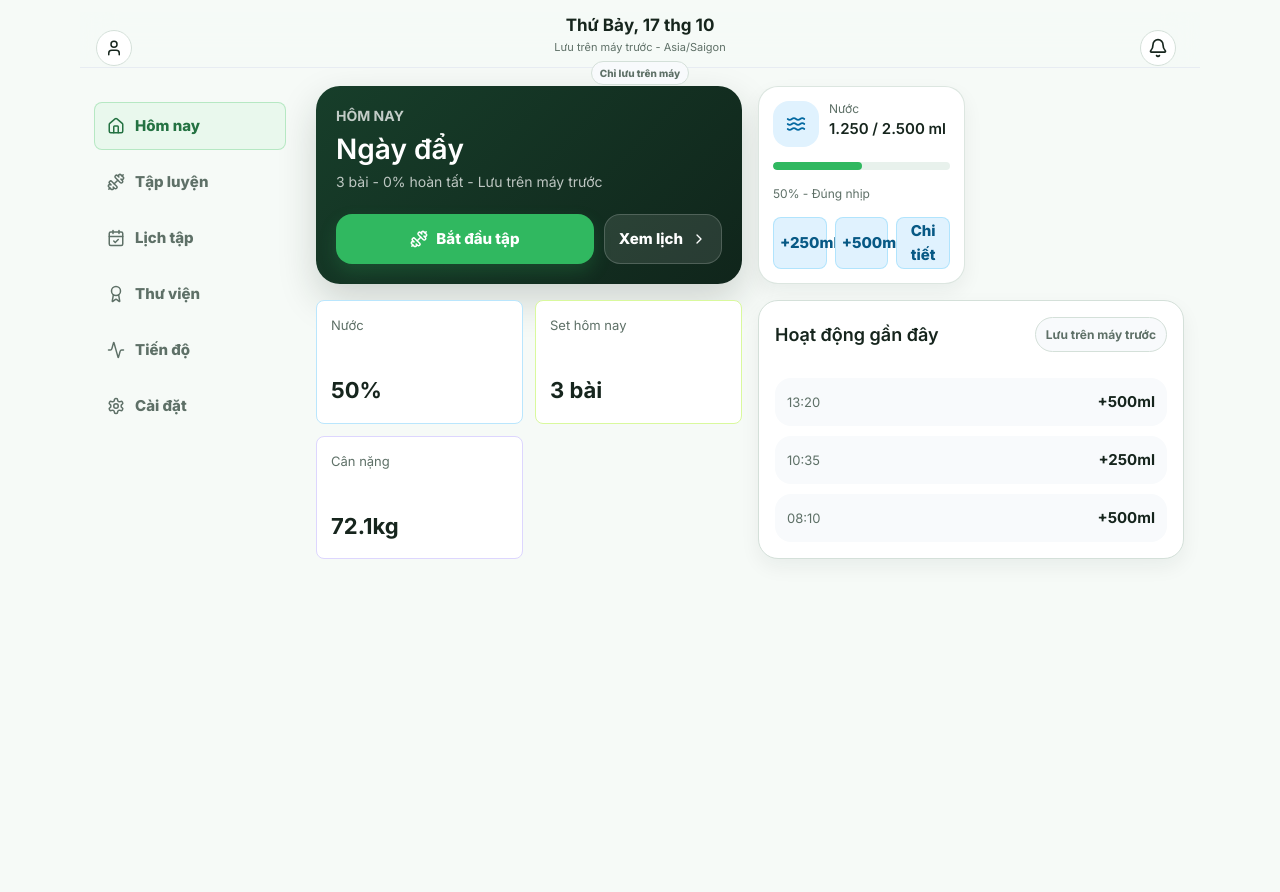
Progress dashboard › hides creatine consistency when creatine is disabled
Click the button "Tiến độ": (190, 350) [94, 326, 286, 374]
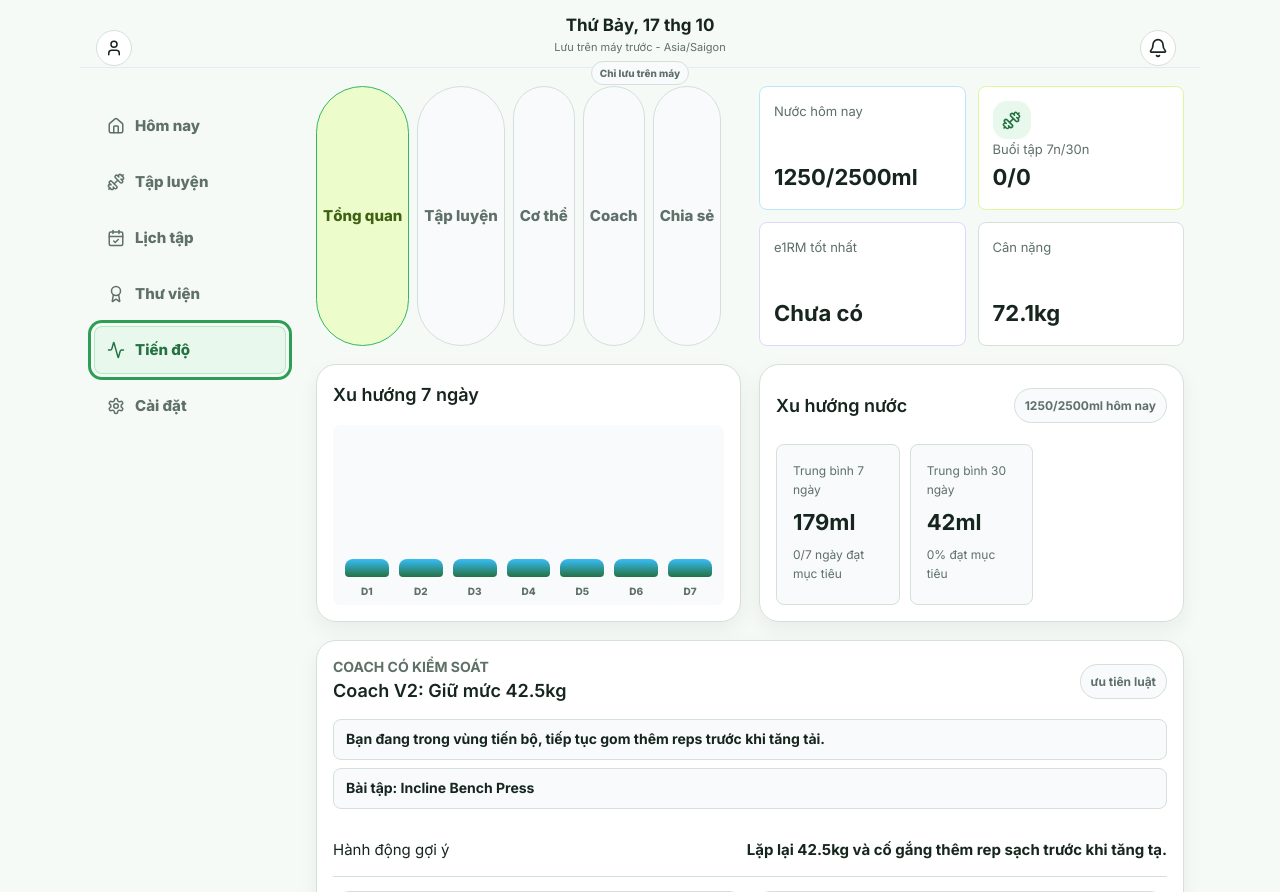
expect the heading "Xu hướng nước" is shown: met, box [776, 392, 907, 420]
